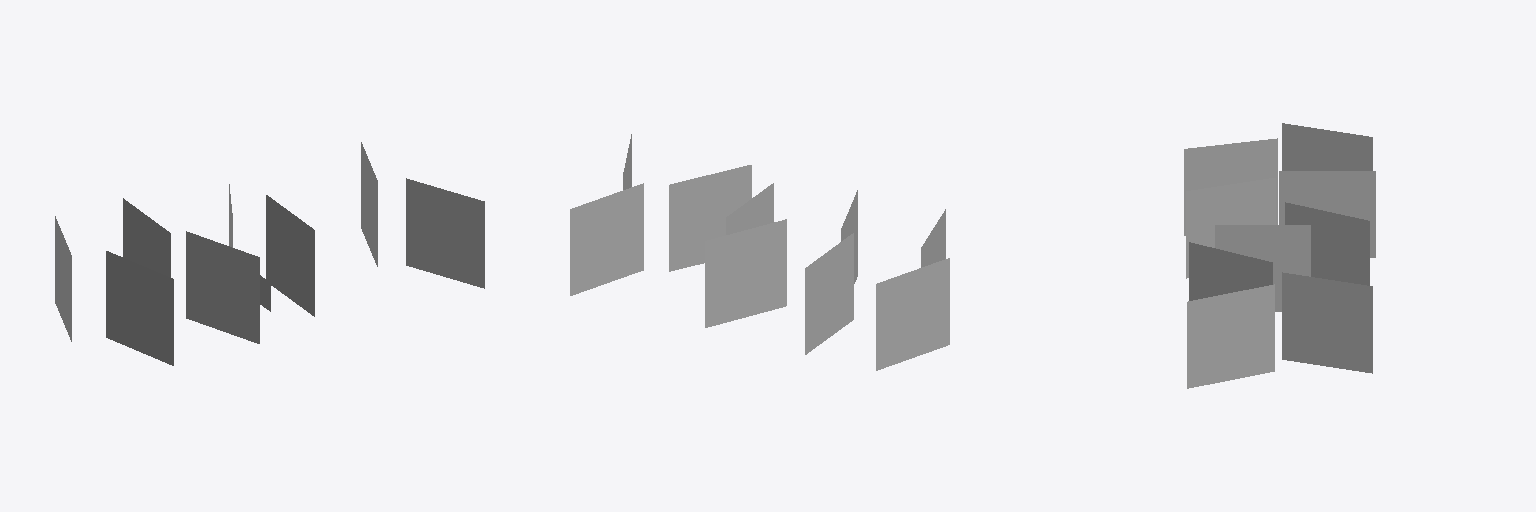
The model's file is muro_vidro.obj.
The picture shows the model from 3 angles: view 1: azimuth 30°, elevation 25°; view 2: azimuth 150°, elevation 25°; view 3: azimuth 270°, elevation 25°; orthographic projection.
Parts seen in each view (by area): view 1: bb_main; view 2: bb_main; view 3: bb_main.
Part boxes in pixels (left/top/right/bottom): bb_main: left=55, top=142, right=484, bottom=365; bb_main: left=570, top=134, right=949, bottom=370; bb_main: left=1184, top=123, right=1375, bottom=388.
Bounding box in the file's own units: 0.8217 × 0.1875 × 0.3718.